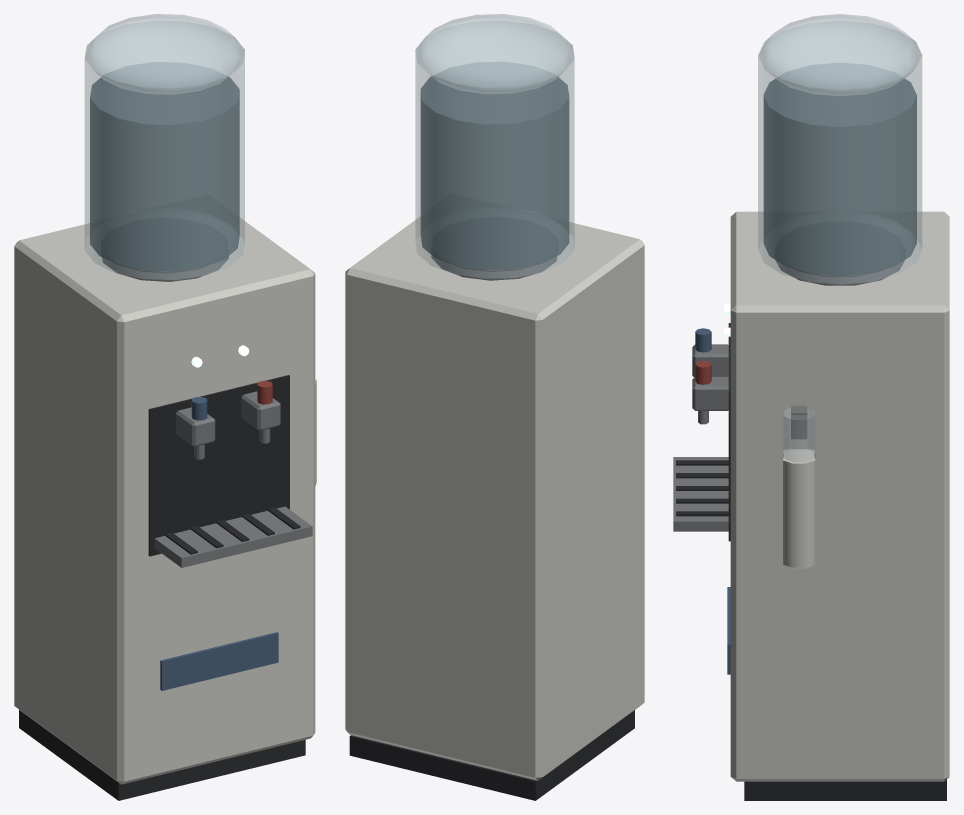
Rendered from astro_water_dispenser.fbx.
3 views of the same model, side by side, from view 1: azimuth 30°, elevation 25°; view 2: azimuth 150°, elevation 25°; view 3: azimuth 270°, elevation 25° (orthographic).
Parts seen in each view (by area): view 1: WaterDispenser_Body; view 2: WaterDispenser_Body; view 3: WaterDispenser_Body.
Boxes of the visible parts, x1,y1,x2,y2 form: WaterDispenser_Body: [14, 14, 316, 800]; WaterDispenser_Body: [345, 14, 644, 800]; WaterDispenser_Body: [673, 14, 949, 800].
Size of the model in its own units: 97.5 by 291 by 101.
